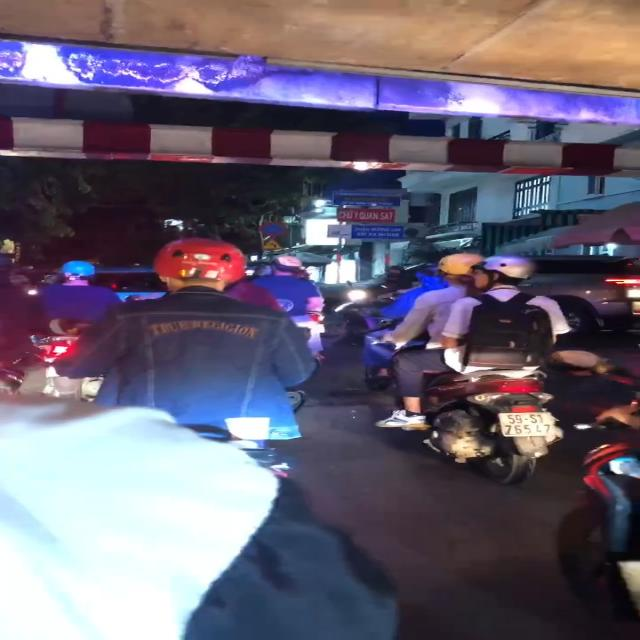Bien bao cho ngoat nguy hiem: (260, 238, 284, 250)
